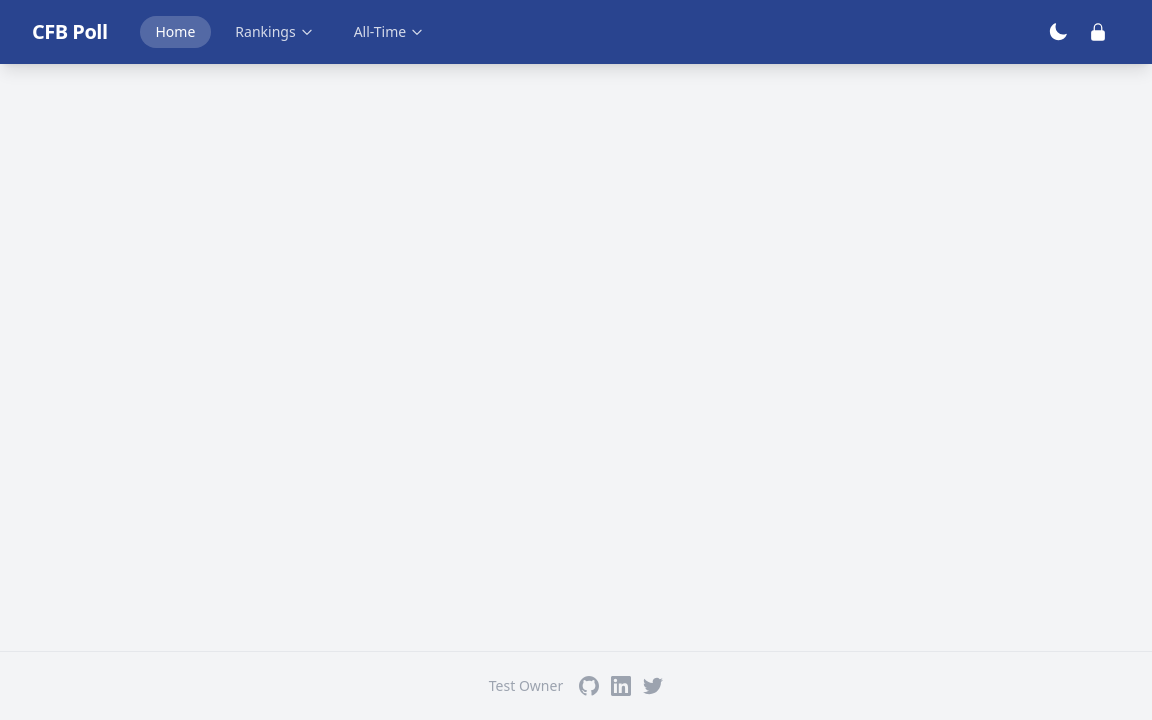
Test: Layout › Rankings dropdown shows items on click
The image size is (1152, 720).
Click the button "Rankings".
click(274, 32)  # box x1=219 y1=16 x2=330 y2=48
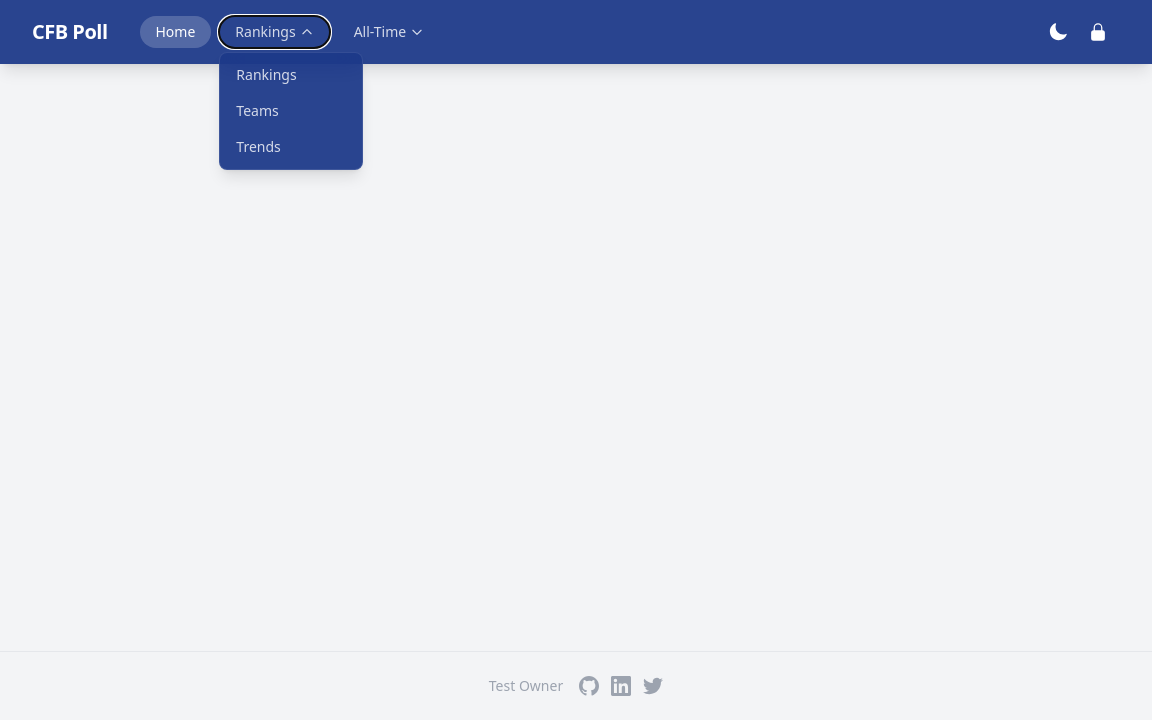
Expected: the link "Teams" is shown, x1=236 y1=101 x2=279 y2=120
